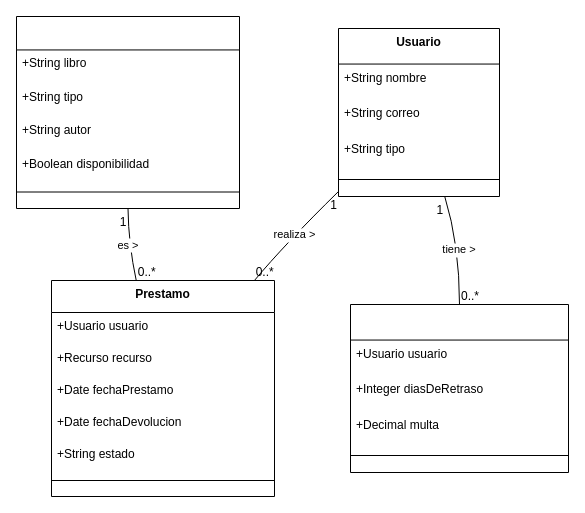
Some shapes in this 585 by 513 pixel diagram are drawn without their labels. The box of each missing label's shape, as (x1, y1, x2, y2) in pixels:
Recurso: (16, 16, 240, 208)
Retardo: (350, 304, 568, 472)
